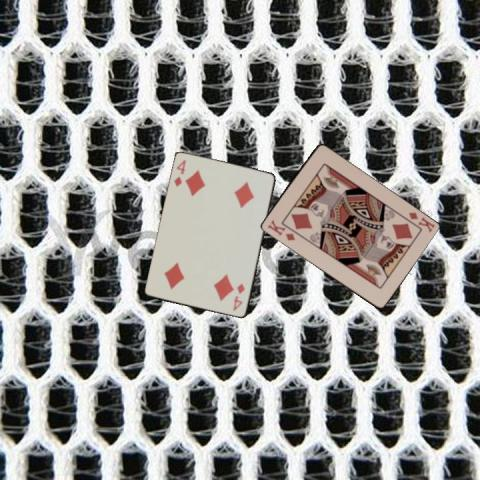4d: (230, 280, 247, 312), (172, 157, 188, 188)
Kd: (264, 217, 297, 242), (405, 209, 436, 234)
